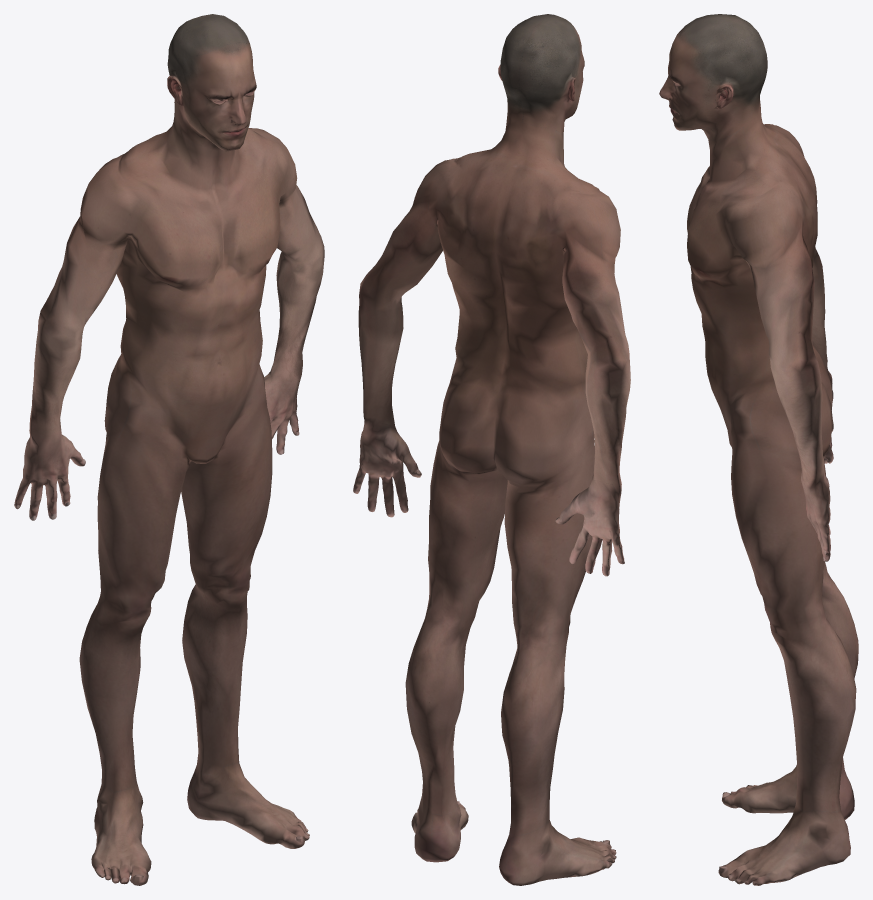
The model's file is restingPose.fbx.
3 renders of one model, left to right at view 1: azimuth 30°, elevation 25°; view 2: azimuth 150°, elevation 25°; view 3: azimuth 270°, elevation 25°, orthographic. The views are drawn at different scales.
Visible parts, largest first — view 1: breathing_BS; view 2: breathing_BS; view 3: breathing_BS.
Part boxes in pixels (x1,y1,x2,y2): breathing_BS: (14,14,324,885); breathing_BS: (353,14,630,885); breathing_BS: (659,14,858,885).
Size of the model in its own units: 32.89 by 91.79 by 20.25.
